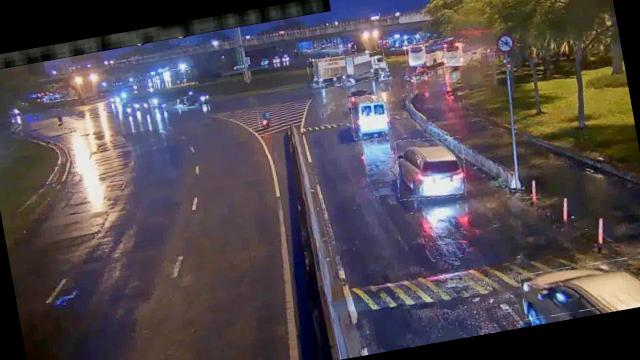Bike: (258, 108, 273, 130)
Bus: (348, 91, 392, 139), (404, 38, 446, 67)
Car: (519, 252, 640, 320), (392, 132, 472, 205)
Truck: (336, 50, 389, 86), (307, 52, 358, 86)
